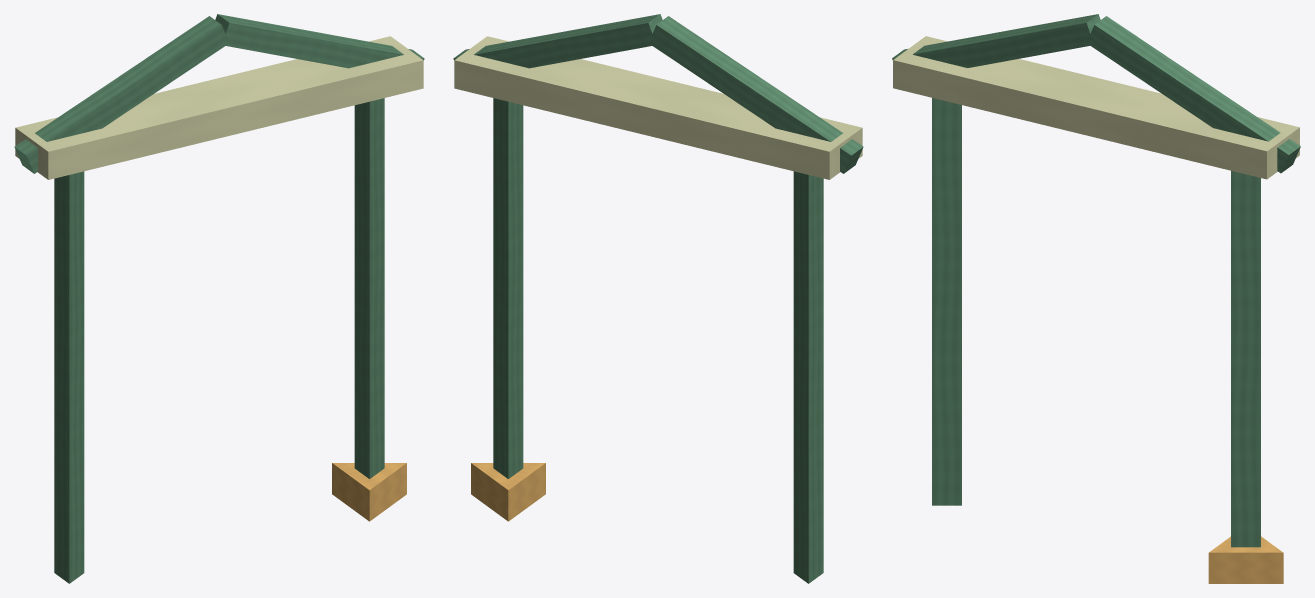
File: atlas100-s001-a09.lod2.glb
The picture shows the model from 3 angles, left to right: view 1: azimuth 30°, elevation 25°; view 2: azimuth 150°, elevation 25°; view 3: azimuth 330°, elevation 25°; orthographic projection.
Parts seen in each view (by area): view 1: atlas100-s001-a09:part-004, atlas100-s001-a09:part-000, atlas100-s001-a09:part-002, atlas100-s001-a09:part-005, atlas100-s001-a09:part-006, atlas100-s001-a09:part-003; view 2: atlas100-s001-a09:part-004, atlas100-s001-a09:part-000, atlas100-s001-a09:part-002, atlas100-s001-a09:part-005, atlas100-s001-a09:part-006, atlas100-s001-a09:part-003; view 3: atlas100-s001-a09:part-004, atlas100-s001-a09:part-000, atlas100-s001-a09:part-002, atlas100-s001-a09:part-006, atlas100-s001-a09:part-005, atlas100-s001-a09:part-003.
Part boxes in pixels (bbox=[...]): atlas100-s001-a09:part-004: bbox=[15, 36, 423, 179]; atlas100-s001-a09:part-000: bbox=[54, 171, 84, 583]; atlas100-s001-a09:part-002: bbox=[354, 98, 384, 478]; atlas100-s001-a09:part-005: bbox=[14, 16, 228, 173]; atlas100-s001-a09:part-006: bbox=[215, 14, 424, 68]; atlas100-s001-a09:part-003: bbox=[332, 463, 406, 521]; atlas100-s001-a09:part-004: bbox=[454, 36, 862, 179]; atlas100-s001-a09:part-000: bbox=[793, 171, 823, 583]; atlas100-s001-a09:part-002: bbox=[493, 98, 523, 478]; atlas100-s001-a09:part-005: bbox=[649, 16, 863, 173]; atlas100-s001-a09:part-006: bbox=[453, 14, 662, 68]; atlas100-s001-a09:part-003: bbox=[471, 463, 545, 521]; atlas100-s001-a09:part-004: bbox=[893, 36, 1299, 179]; atlas100-s001-a09:part-000: bbox=[932, 98, 961, 505]; atlas100-s001-a09:part-002: bbox=[1231, 171, 1260, 547]; atlas100-s001-a09:part-006: bbox=[1087, 16, 1300, 173]; atlas100-s001-a09:part-005: bbox=[892, 14, 1100, 67]; atlas100-s001-a09:part-003: bbox=[1208, 536, 1283, 583].
Bounding box in the file's own units: 2.65 × 3.31 × 0.433.
Materials: 3 (3 with a texture image).
